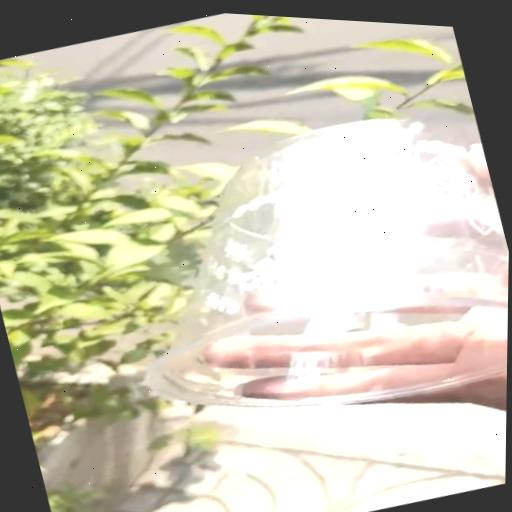ly_giay: (147, 118, 509, 407)
